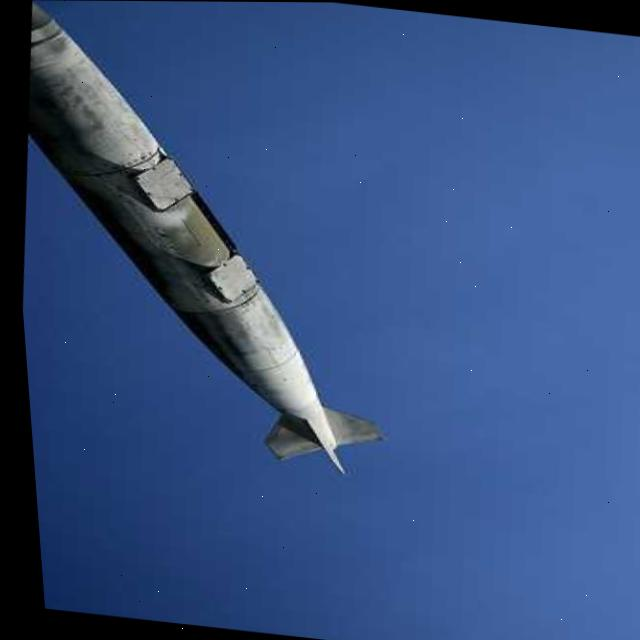missile: (0, 0, 425, 490)
